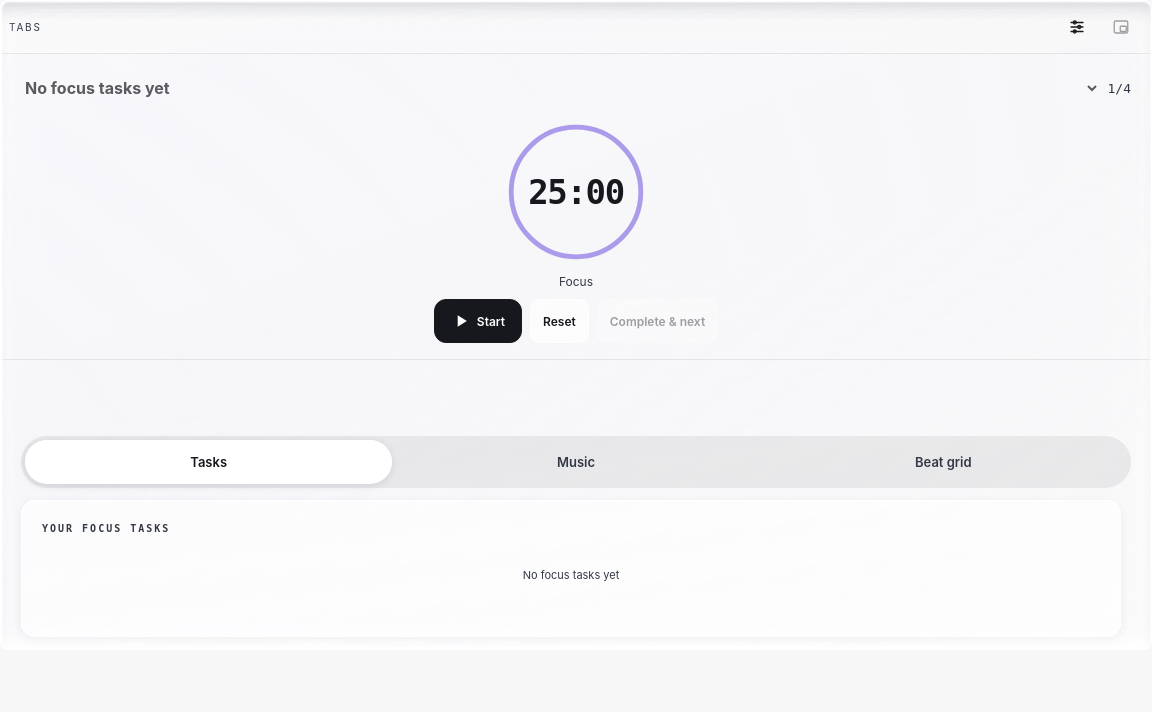
Test case: opens only Tabs with the previous island preference, keeping color and palette settings
The width and height of the screenshot is (1152, 712).
Click the tab "Music" at (576, 462), box 392,440 -> 760,484
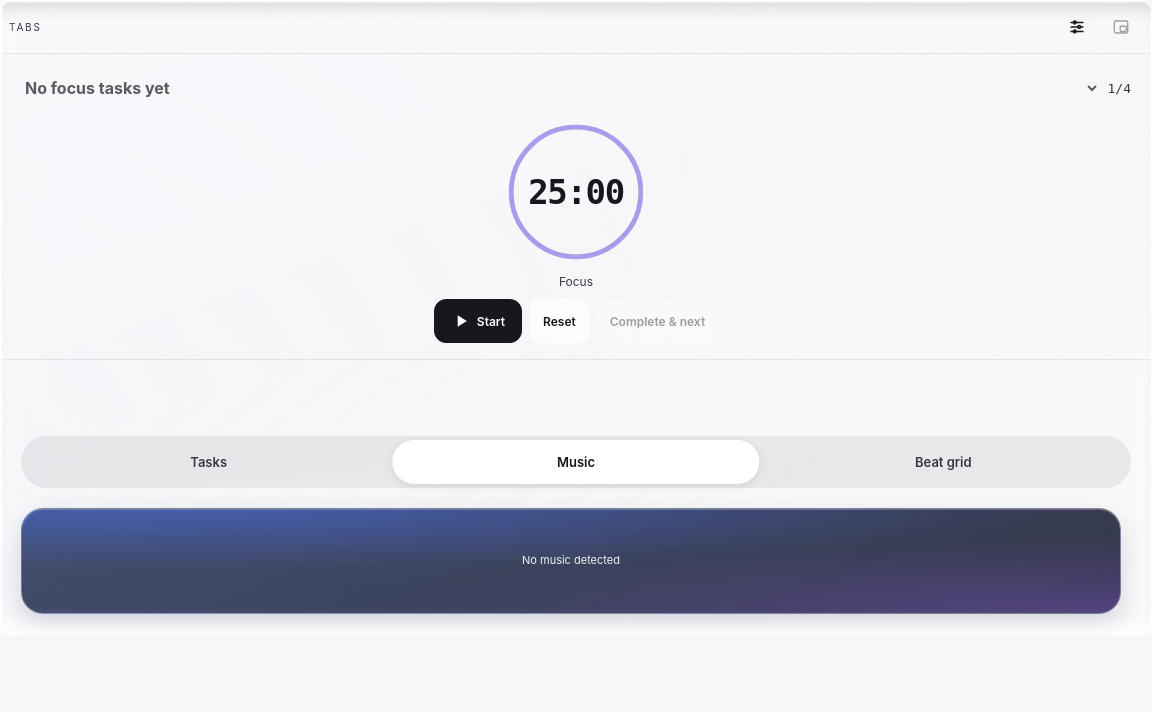
Expected: the button "Start" is shown, 434,299 -> 522,343
Now the tab "Music" is selected, box 392,440 -> 760,484
Click the tab "Beat grid" at (943, 462), box 760,440 -> 1127,484
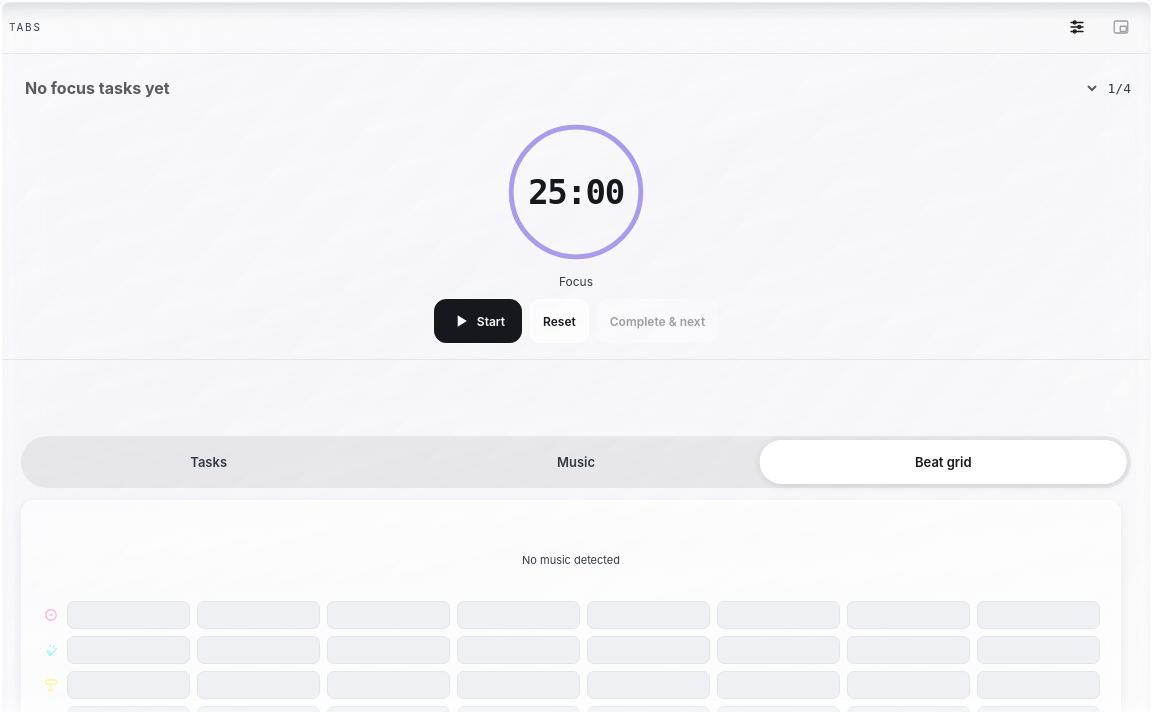
Expected: the button "Start" is shown, 434,299 -> 522,343
Now the tab "Beat grid" is selected, box 760,440 -> 1127,484
Click the tab "Tasks" at (209, 462), box 25,440 -> 392,484
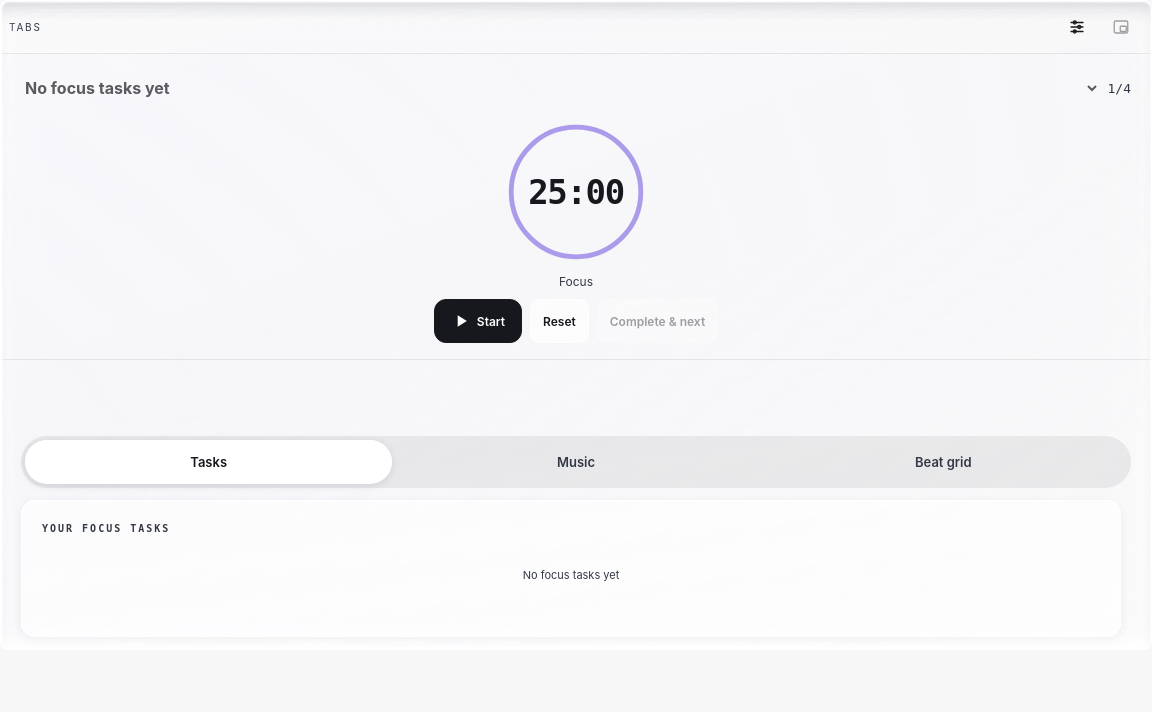
Expected: the button "Start" is shown, 434,299 -> 522,343
Now the tab "Tasks" is selected, box 25,440 -> 392,484
Click the button named "Dock settings" at (1077, 27), box 1055,5 -> 1099,49
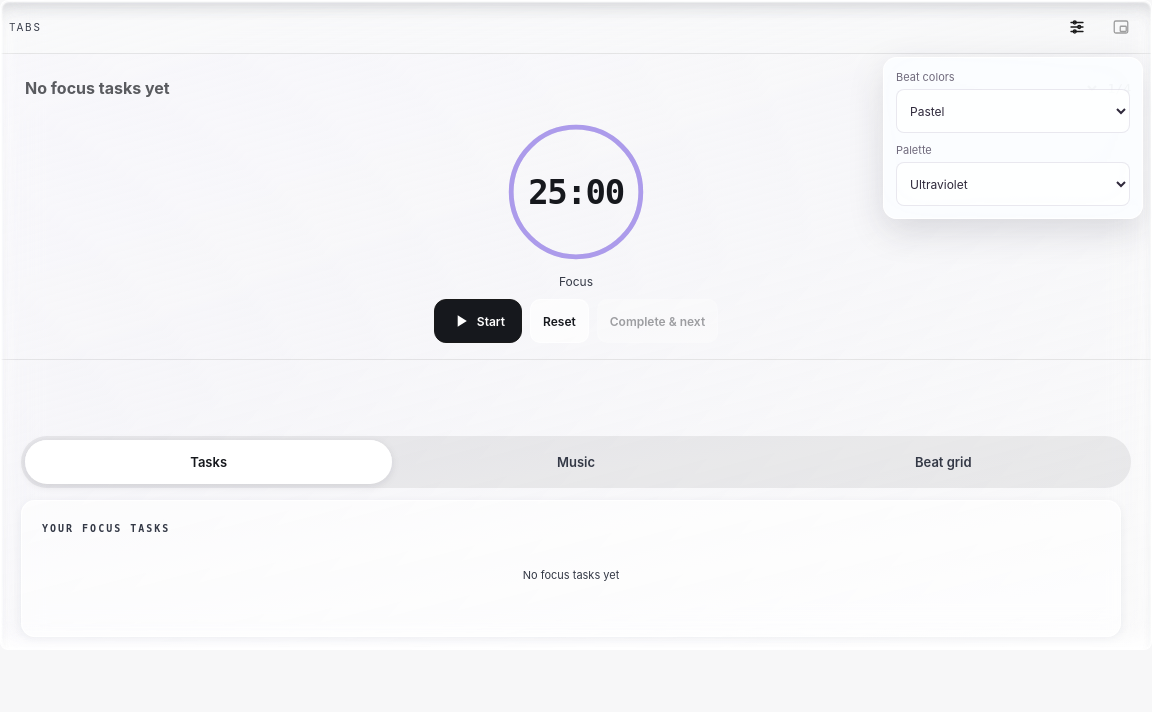
Now the dropdown labelled "Beat colors" shows "Pastel", box 896,89 -> 1130,133
Now the dropdown labelled "Palette" shows "Ultraviolet", box 896,162 -> 1130,206
